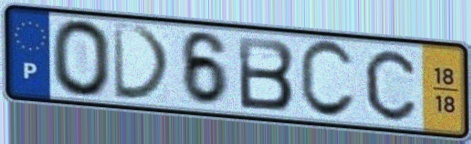6: (177, 29, 233, 110)
B: (235, 34, 298, 113)
C: (296, 37, 359, 122), (362, 47, 419, 124)
D: (110, 21, 175, 103)
O: (48, 17, 115, 100)
